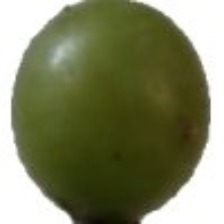grapes: (14, 39, 172, 216)
